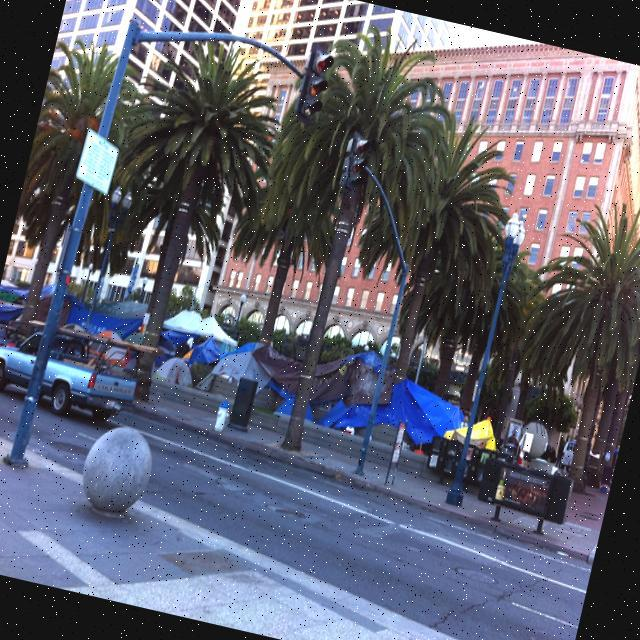fire_hydrant: (212, 398, 232, 432)
